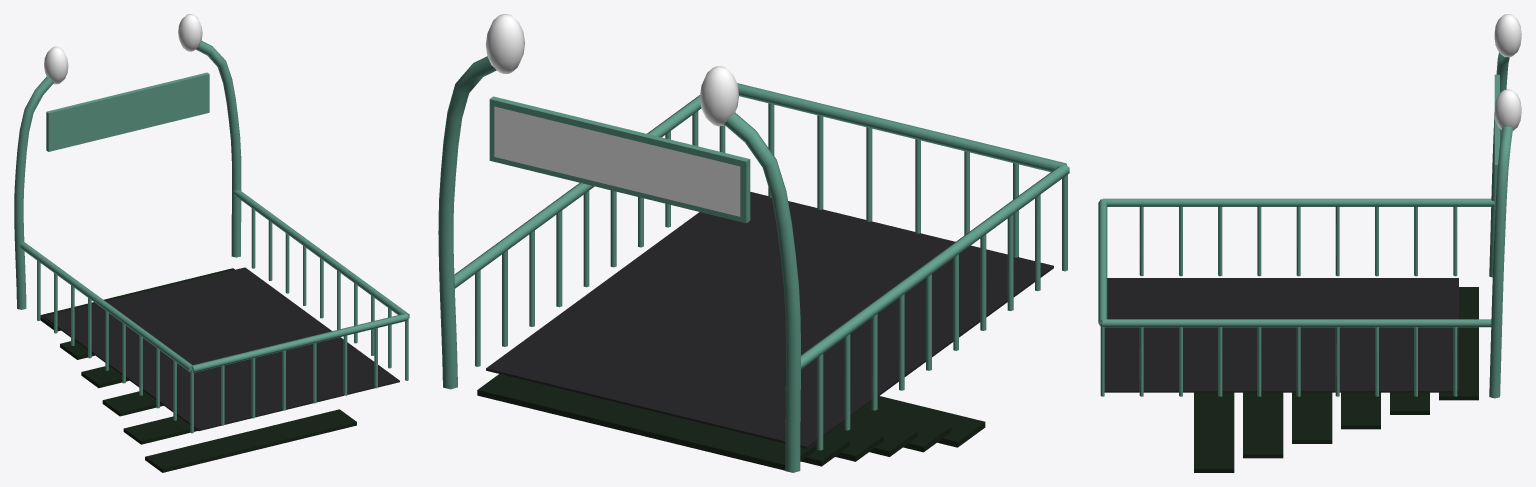
File: METRO_ENTRANCE.glb
The picture shows the model from 3 angles, left to right: view 1: azimuth 30°, elevation 25°; view 2: azimuth 150°, elevation 25°; view 3: azimuth 270°, elevation 25°; orthographic projection. The views are drawn at different scales.
Visible parts, largest first — view 1: tread_3, copper_0, concreteProp_2, lamps_4; view 2: tread_3, copper_0, concreteProp_2, citySign_1, lamps_4; view 3: tread_3, copper_0, concreteProp_2, lamps_4.
Part boxes in pixels (box(x1,y1,x2,y2)): tread_3: box(44, 267, 399, 430); copper_0: box(14, 41, 409, 433); concreteProp_2: box(40, 268, 356, 472); lamps_4: box(44, 14, 202, 84); tread_3: box(486, 192, 1053, 448); copper_0: box(438, 56, 1069, 472); concreteProp_2: box(477, 374, 985, 470); citySign_1: box(494, 106, 740, 216); lamps_4: box(486, 14, 738, 126); tread_3: box(1104, 278, 1458, 392); copper_0: box(1098, 52, 1513, 398); concreteProp_2: box(1194, 287, 1478, 472); lamps_4: box(1494, 14, 1521, 130).
Size of the model in its own units: 3.38 by 4.53 by 4.75.
